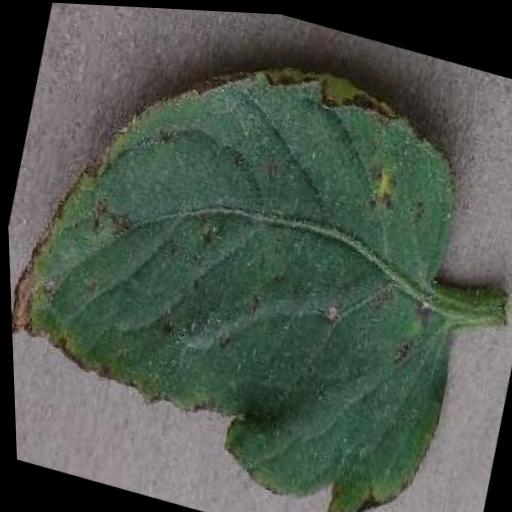Bacterial Spot: (0, 0, 509, 512)
